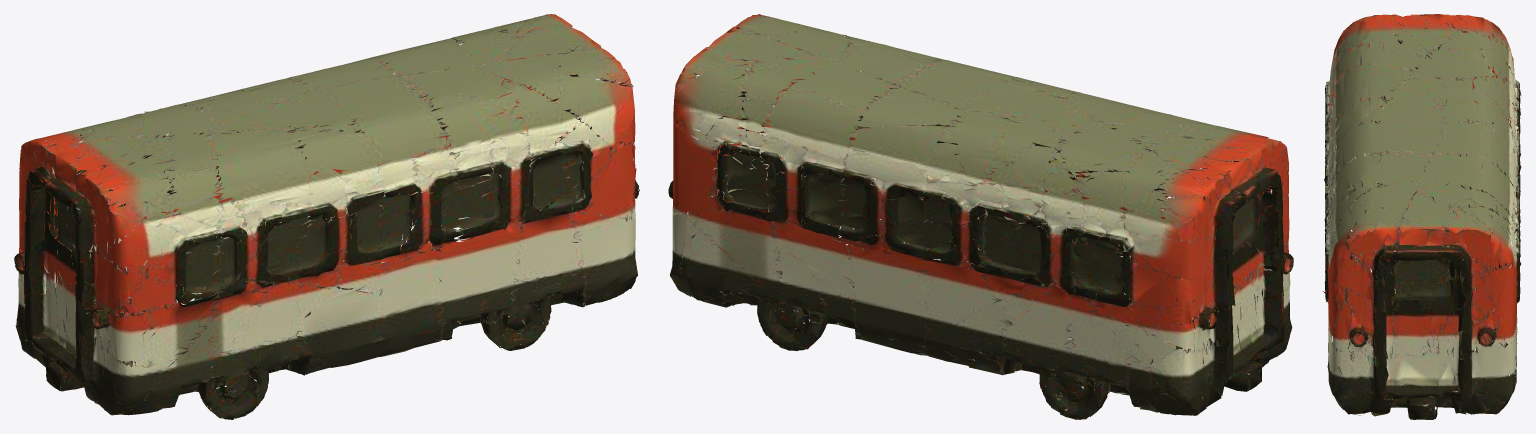
The model's file is tren_opt.glb.
3 views of the same model, side by side, from view 1: azimuth 30°, elevation 25°; view 2: azimuth 150°, elevation 25°; view 3: azimuth 270°, elevation 25° (orthographic). The views are drawn at different scales.
Parts seen in each view (by area): view 1: Mesh_0; view 2: Mesh_0; view 3: Mesh_0.
Part boxes in pixels (<box>): Mesh_0: <box>14,14,639,419</box>; Mesh_0: <box>668,14,1293,419</box>; Mesh_0: <box>1323,14,1521,419</box>.
Bounding box in the file's own units: 1.92 × 0.8267 × 0.7094.
1 material, 1 textured.
